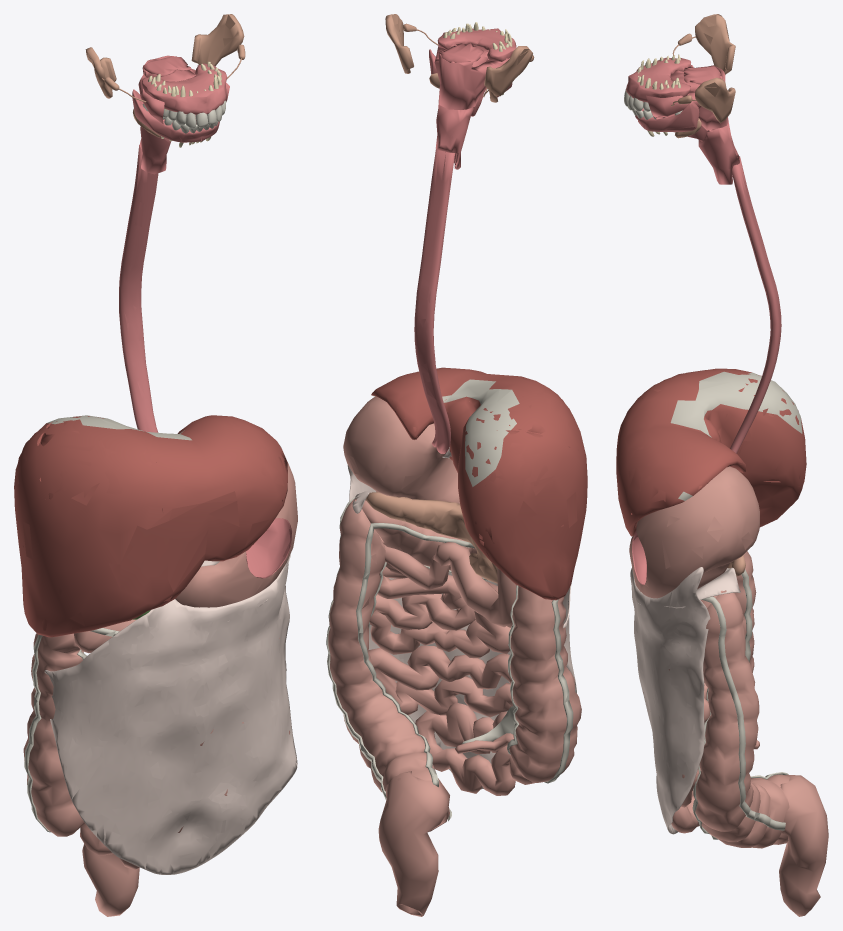
The model's file is adult_male.digestive.LOD2.glb.
3 views of the same model, side by side, from view 1: azimuth 30°, elevation 25°; view 2: azimuth 150°, elevation 25°; view 3: azimuth 270°, elevation 25° (orthographic). The views are drawn at different scales.
Parts seen in each view (by area): view 1: ADULT.MALE.DIGESTIVE.GREATER_OMENTUM, ADULT.MALE.DIGESTIVE.LIVER, ADULT.MALE.DIGESTIVE.ASCENDING_COLON, ADULT.MALE.DIGESTIVE.OESOPHAGUS, ADULT.MALE.DIGESTIVE.STOMACH, ADULT.MALE.DIGESTIVE.GINGIVA, ADULT.MALE.DIGESTIVE.SIGMOID_COLON, ADULT.MALE.DIGESTIVE.MUCOSA_OF_STOMACH, ADULT.MALE.DIGESTIVE.PAROTID_GLAND.L, ADULT.MALE.DIGESTIVE.POSTERIOR_MEDIAL_SEGMENT_OF_LIVER_VIII, ADULT.MALE.DIGESTIVE.MESOCOLIC_TAENIA, ADULT.MALE.DIGESTIVE.LARYNGOPHARYNX (+5 smaller); view 2: ADULT.MALE.DIGESTIVE.LIVER, ADULT.MALE.DIGESTIVE.JEJUNUM, ADULT.MALE.DIGESTIVE.DESCENDING_COLON, ADULT.MALE.DIGESTIVE.ASCENDING_COLON, ADULT.MALE.DIGESTIVE.STOMACH, ADULT.MALE.DIGESTIVE.SIGMOID_COLON, ADULT.MALE.DIGESTIVE.OESOPHAGUS, ADULT.MALE.DIGESTIVE.PANCREAS, ADULT.MALE.DIGESTIVE.DUODENUM, ADULT.MALE.DIGESTIVE.FREE_TAENIA, ADULT.MALE.DIGESTIVE.GREATER_OMENTUM, ADULT.MALE.DIGESTIVE.OROPHARYNX (+11 smaller); view 3: ADULT.MALE.DIGESTIVE.LIVER, ADULT.MALE.DIGESTIVE.GREATER_OMENTUM, ADULT.MALE.DIGESTIVE.DESCENDING_COLON, ADULT.MALE.DIGESTIVE.STOMACH, ADULT.MALE.DIGESTIVE.SIGMOID_COLON, ADULT.MALE.DIGESTIVE.OESOPHAGUS, ADULT.MALE.DIGESTIVE.GINGIVA, ADULT.MALE.DIGESTIVE.MESOCOLIC_TAENIA, ADULT.MALE.DIGESTIVE.LARYNGOPHARYNX, ADULT.MALE.DIGESTIVE.PAROTID_GLAND.R, ADULT.MALE.DIGESTIVE.OROPHARYNX, ADULT.MALE.DIGESTIVE.PAROTID_GLAND.L (+7 smaller).
Part boxes in pixels (<box>): ADULT.MALE.DIGESTIVE.GREATER_OMENTUM: <box>44,557,297,874</box>; ADULT.MALE.DIGESTIVE.LIVER: <box>14,415,287,637</box>; ADULT.MALE.DIGESTIVE.ASCENDING_COLON: <box>23,633,84,836</box>; ADULT.MALE.DIGESTIVE.OESOPHAGUS: <box>119,145,158,432</box>; ADULT.MALE.DIGESTIVE.STOMACH: <box>175,462,297,607</box>; ADULT.MALE.DIGESTIVE.GINGIVA: <box>132,63,227,142</box>; ADULT.MALE.DIGESTIVE.SIGMOID_COLON: <box>82,843,139,916</box>; ADULT.MALE.DIGESTIVE.MUCOSA_OF_STOMACH: <box>246,518,291,578</box>; ADULT.MALE.DIGESTIVE.PAROTID_GLAND.L: <box>191,14,244,66</box>; ADULT.MALE.DIGESTIVE.POSTERIOR_MEDIAL_SEGMENT_OF_LIVER_VIII: <box>41,416,151,514</box>; ADULT.MALE.DIGESTIVE.MESOCOLIC_TAENIA: <box>24,628,119,832</box>; ADULT.MALE.DIGESTIVE.LARYNGOPHARYNX: <box>139,126,170,174</box>; ADULT.MALE.DIGESTIVE.LIVER: <box>371,367,587,600</box>; ADULT.MALE.DIGESTIVE.JEJUNUM: <box>368,544,534,795</box>; ADULT.MALE.DIGESTIVE.DESCENDING_COLON: <box>328,499,449,831</box>; ADULT.MALE.DIGESTIVE.ASCENDING_COLON: <box>509,586,581,782</box>; ADULT.MALE.DIGESTIVE.STOMACH: <box>343,396,459,503</box>; ADULT.MALE.DIGESTIVE.SIGMOID_COLON: <box>378,771,449,916</box>; ADULT.MALE.DIGESTIVE.OESOPHAGUS: <box>414,149,455,453</box>; ADULT.MALE.DIGESTIVE.PANCREAS: <box>365,492,497,583</box>; ADULT.MALE.DIGESTIVE.DUODENUM: <box>433,542,518,627</box>; ADULT.MALE.DIGESTIVE.FREE_TAENIA: <box>356,523,518,787</box>; ADULT.MALE.DIGESTIVE.GREATER_OMENTUM: <box>347,465,576,789</box>; ADULT.MALE.DIGESTIVE.OROPHARYNX: <box>434,45,509,109</box>; ADULT.MALE.DIGESTIVE.LIVER: <box>616,368,806,536</box>; ADULT.MALE.DIGESTIVE.GREATER_OMENTUM: <box>630,567,710,834</box>; ADULT.MALE.DIGESTIVE.DESCENDING_COLON: <box>695,590,796,848</box>; ADULT.MALE.DIGESTIVE.STOMACH: <box>629,466,759,598</box>; ADULT.MALE.DIGESTIVE.SIGMOID_COLON: <box>779,774,828,916</box>; ADULT.MALE.DIGESTIVE.OESOPHAGUS: <box>730,156,781,453</box>; ADULT.MALE.DIGESTIVE.GINGIVA: <box>626,57,699,131</box>; ADULT.MALE.DIGESTIVE.MESOCOLIC_TAENIA: <box>702,596,785,830</box>; ADULT.MALE.DIGESTIVE.LARYNGOPHARYNX: <box>698,122,739,184</box>; ADULT.MALE.DIGESTIVE.PAROTID_GLAND.R: <box>695,14,735,74</box>; ADULT.MALE.DIGESTIVE.OROPHARYNX: <box>646,66,728,130</box>; ADULT.MALE.DIGESTIVE.PAROTID_GLAND.L: <box>695,77,735,123</box>.
Bounding box in the file's own units: 0.2293 × 0.7728 × 0.1712.
